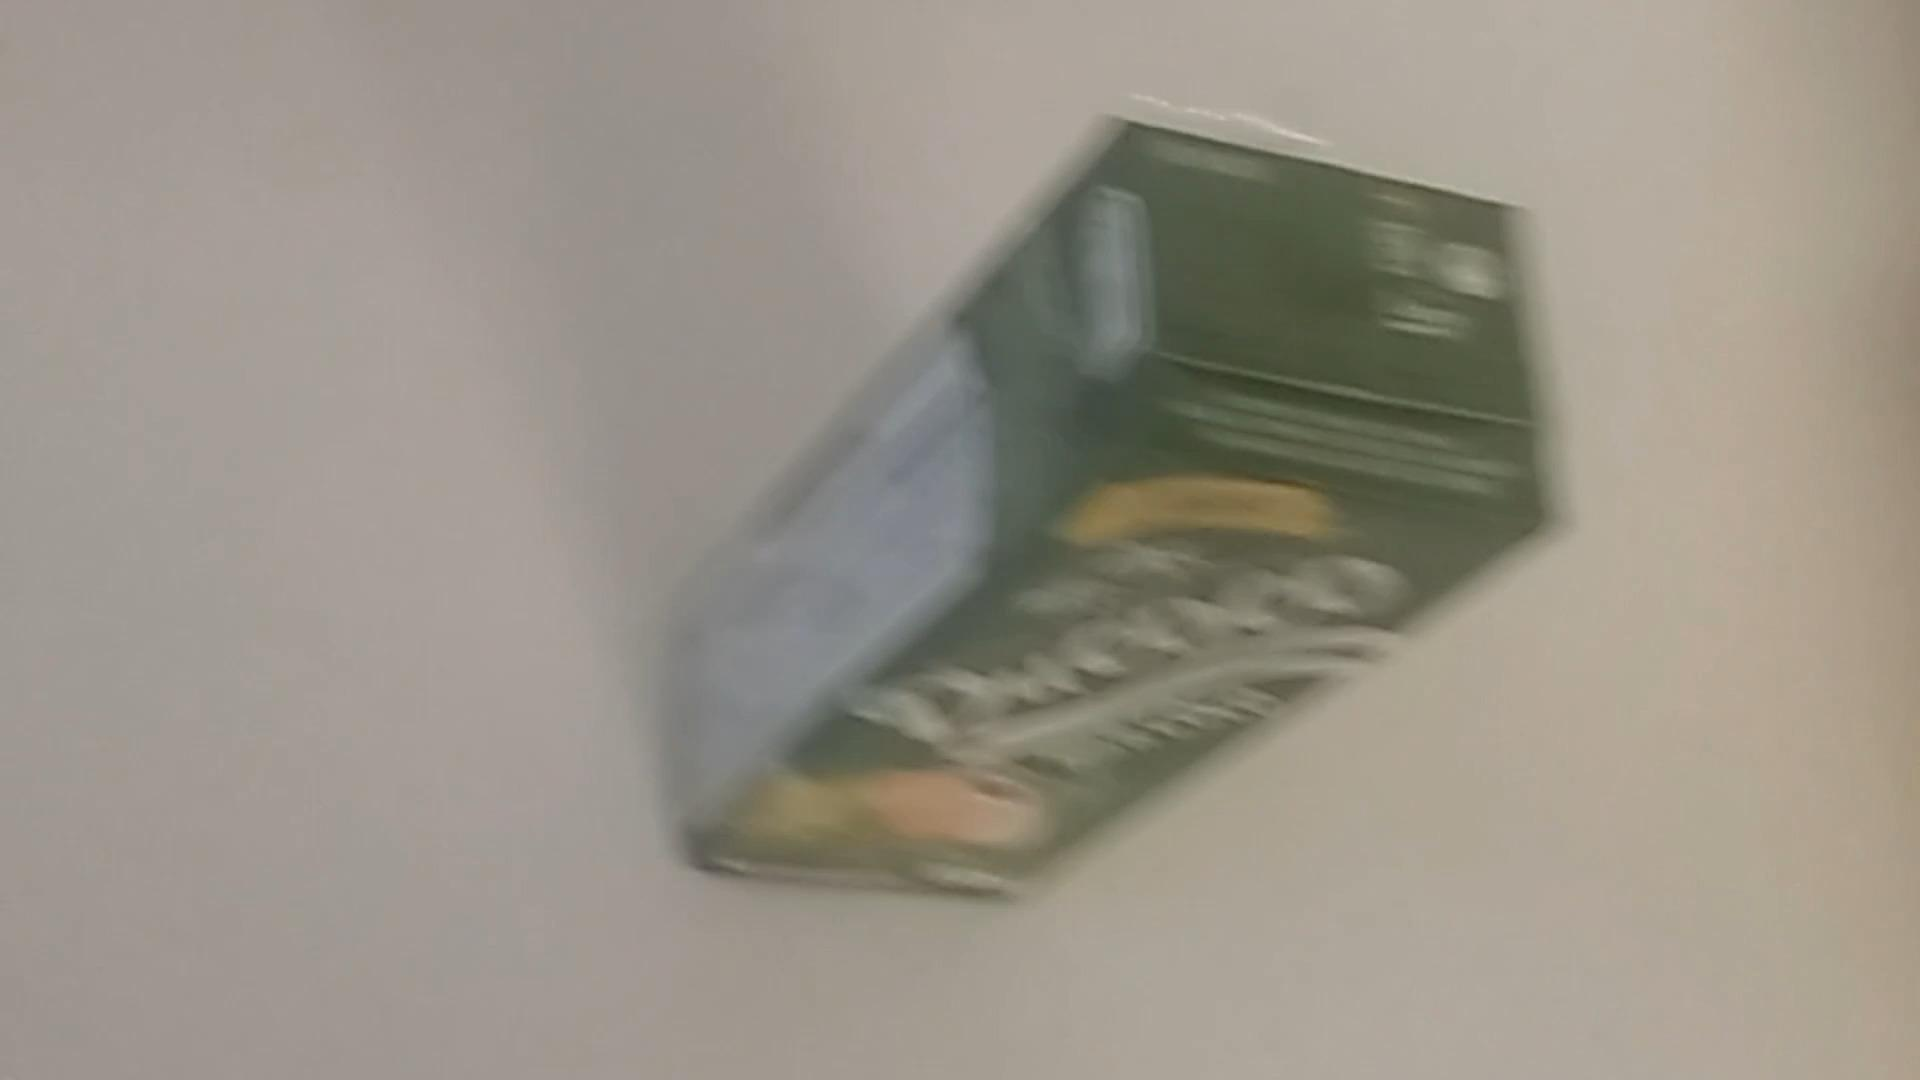coco: (678, 120, 1543, 927)
